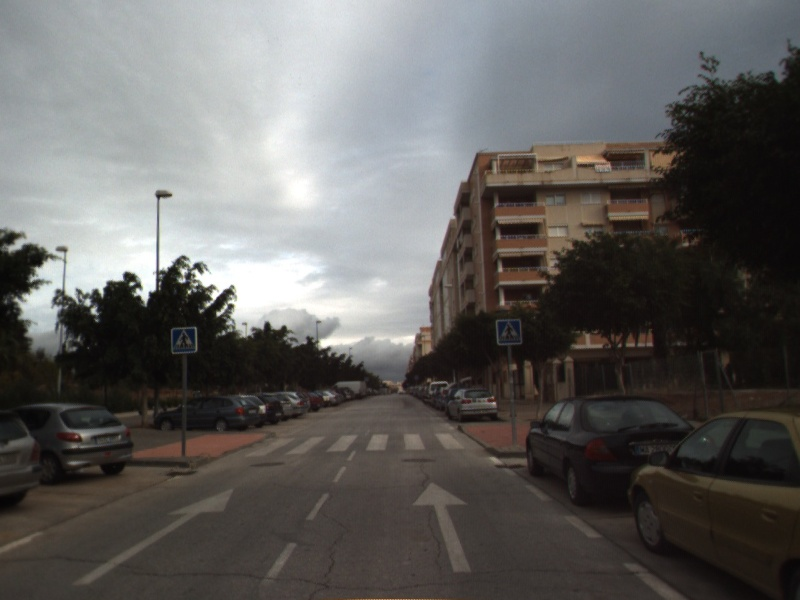STRAIGHT: (70, 486, 237, 587), (409, 480, 473, 574)
